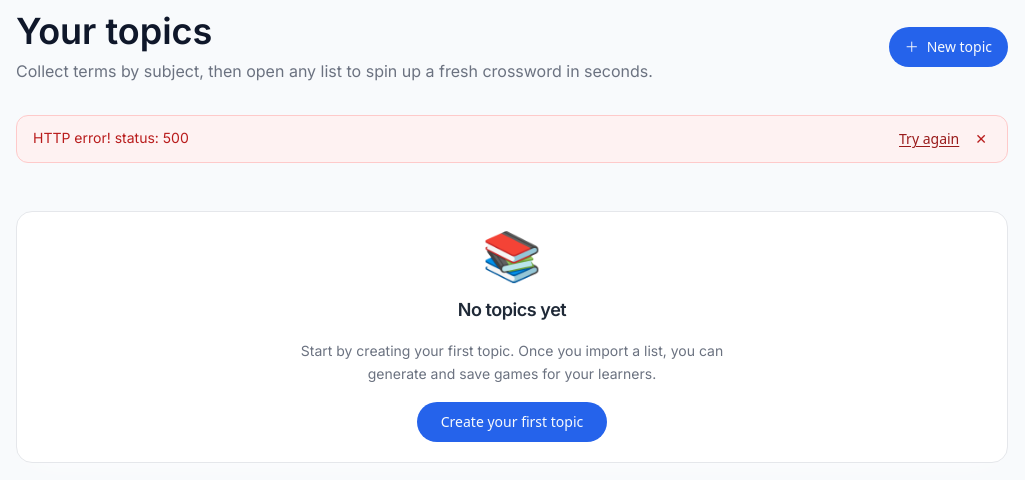
Scenario: TopicsPage auth gate (#82) › renders a visible error with retry when the fetch fails (#36)
Expected: the message shows "HTTP error", [33,129,189,146]
Retry refetches and clears the error state.
Click the button "Try again": (929, 139) [899,129,959,149]
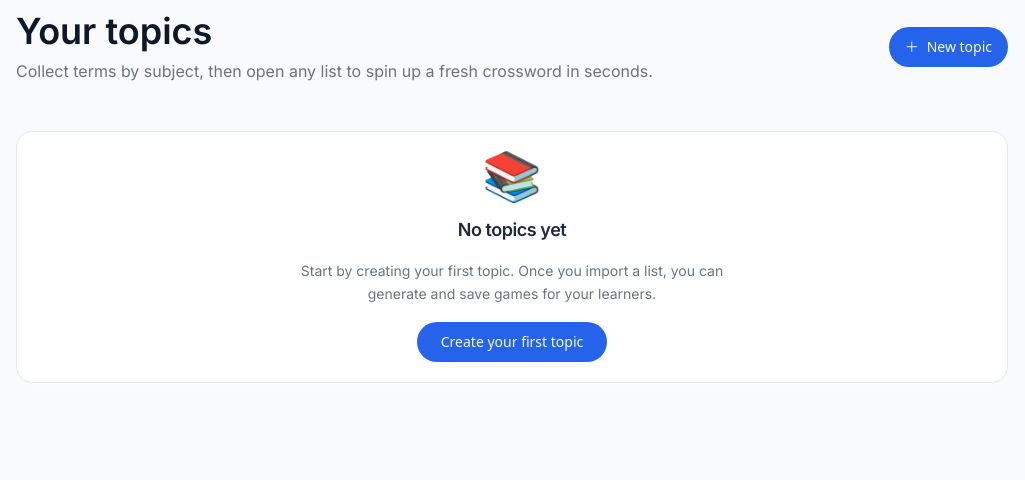
Expected: the message "HTTP error! status: 500 Try again ✕" is gone
